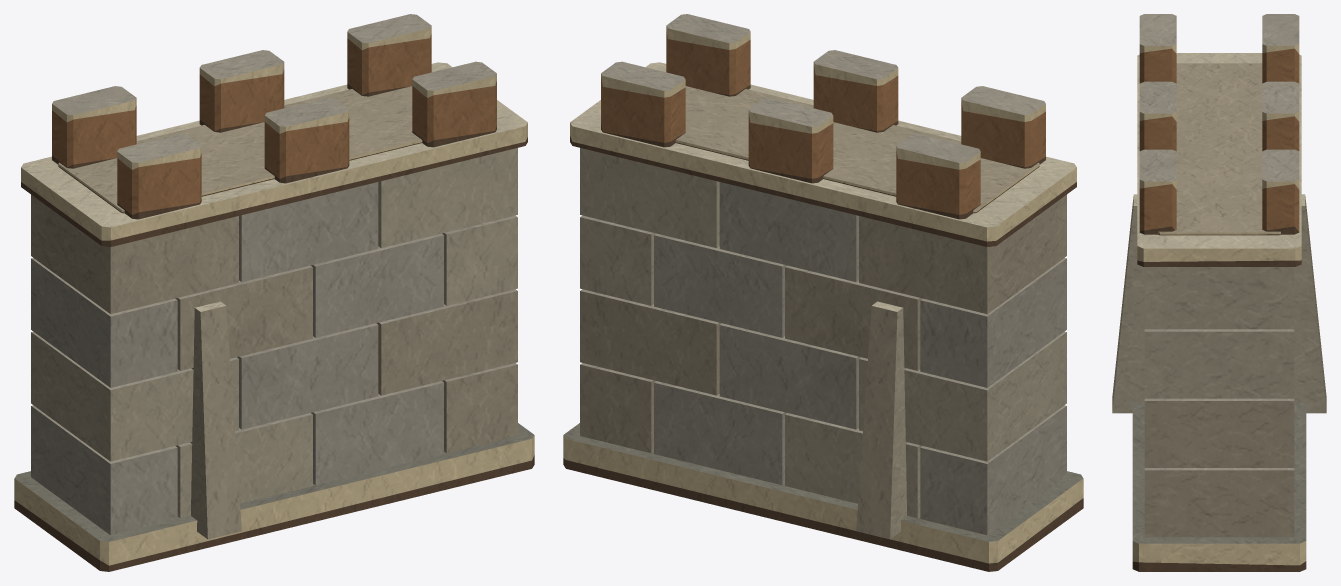
File: lienzo.glb
3 renders of one model, left to right at view 1: azimuth 30°, elevation 25°; view 2: azimuth 150°, elevation 25°; view 3: azimuth 270°, elevation 25°, orthographic. The views are drawn at different scales.
Visible parts, largest first — view 1: lienzo; view 2: lienzo; view 3: lienzo.
Boxes of the visible parts, left/top/right/bottom form: lienzo: left=14, top=14, right=534, bottom=571; lienzo: left=563, top=14, right=1083, bottom=571; lienzo: left=1112, top=14, right=1326, bottom=571.
Size of the model in its own units: 7.42 by 6.49 by 3.37.
Materials: 1 (1 with a texture image).
